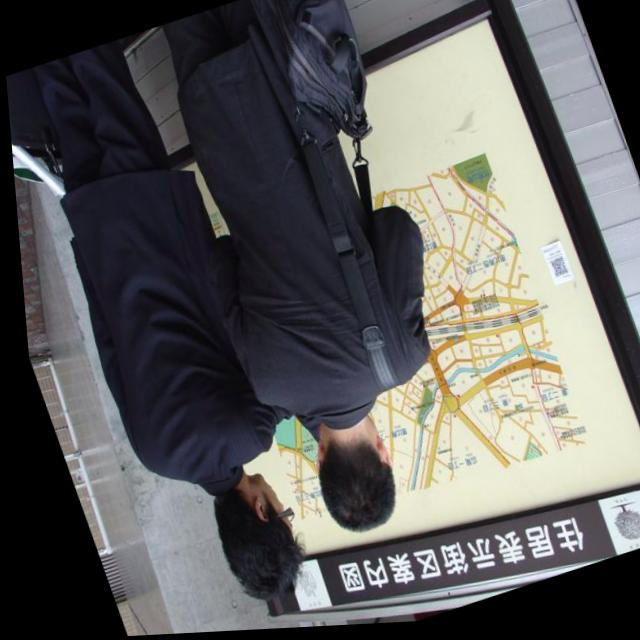qrcode: (544, 261, 563, 283)
